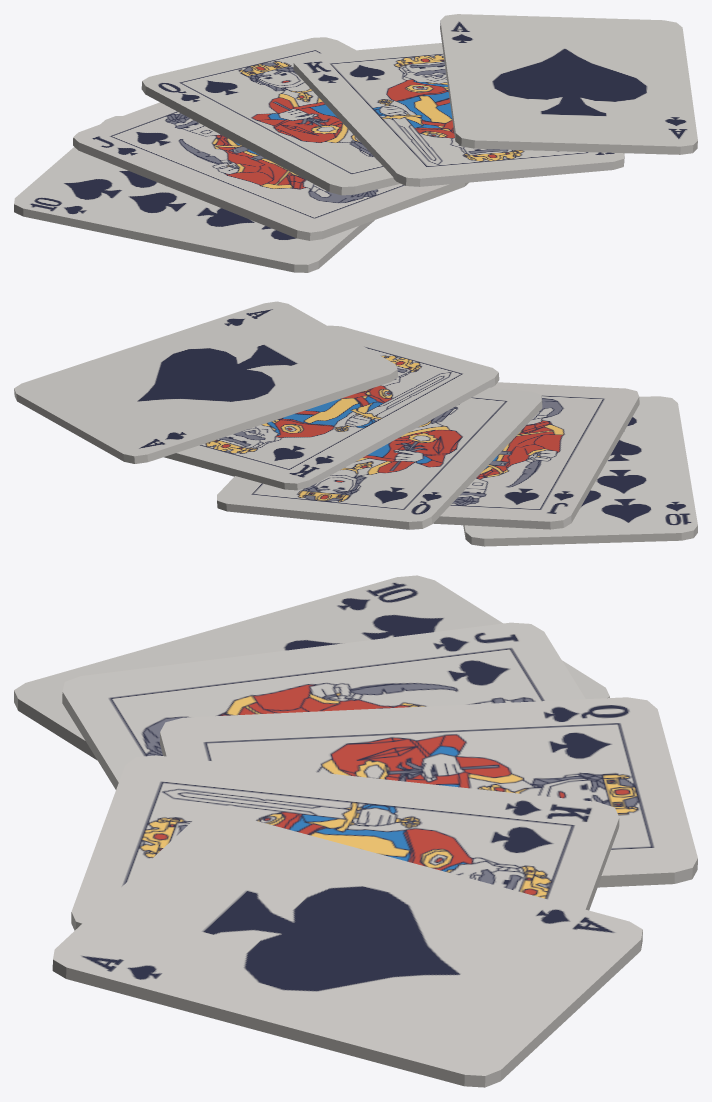
File: SM_Item_Playing_Card_Hand_01.fbx
3 views of the same model, one above another, from view 1: azimuth 30°, elevation 25°; view 2: azimuth 150°, elevation 25°; view 3: azimuth 270°, elevation 25° (orthographic). The views are drawn at different scales.
Parts seen in each view (by area): view 1: SM_Item_Playing_Card_Hand_01; view 2: SM_Item_Playing_Card_Hand_01; view 3: SM_Item_Playing_Card_Hand_01.
Boxes of the visible parts, x1=… form: SM_Item_Playing_Card_Hand_01: x1=14, y1=14, x2=697, y2=272; SM_Item_Playing_Card_Hand_01: x1=14, y1=301, x2=697, y2=546; SM_Item_Playing_Card_Hand_01: x1=14, y1=575, x2=697, y2=1087.
Bounding box in the file's own units: 38.04 × 1.87 × 22.13.
